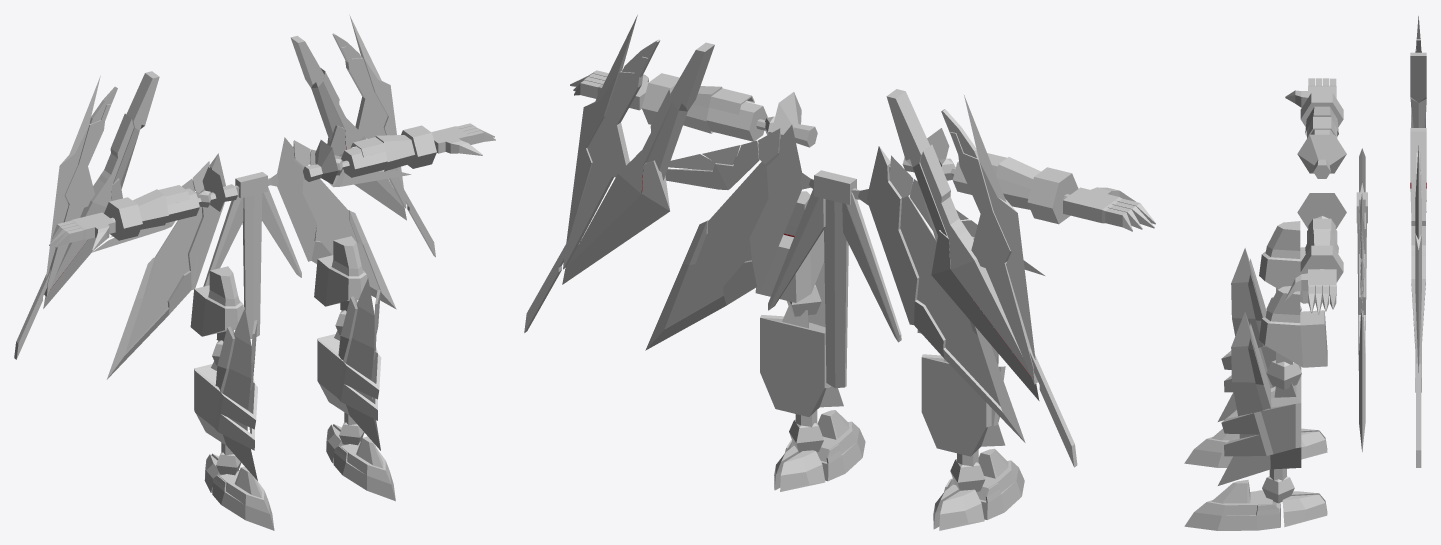
The model's file is HoukiNoAnims.fbx.
3 renders of one model, left to right at view 1: azimuth 30°, elevation 25°; view 2: azimuth 150°, elevation 25°; view 3: azimuth 270°, elevation 25°, orthographic. The views are drawn at different scales.
Parts seen in each view (by area): view 1: Cube_001; view 2: Cube_001; view 3: Cube_001.
Part boxes in pixels (<box>): Cube_001: <box>14,15,495,530</box>; Cube_001: <box>524,15,1155,530</box>; Cube_001: <box>1184,16,1426,530</box>.
Size of the model in its own units: 9 by 7.56 by 3.99.
2 materials, 1 textured.
